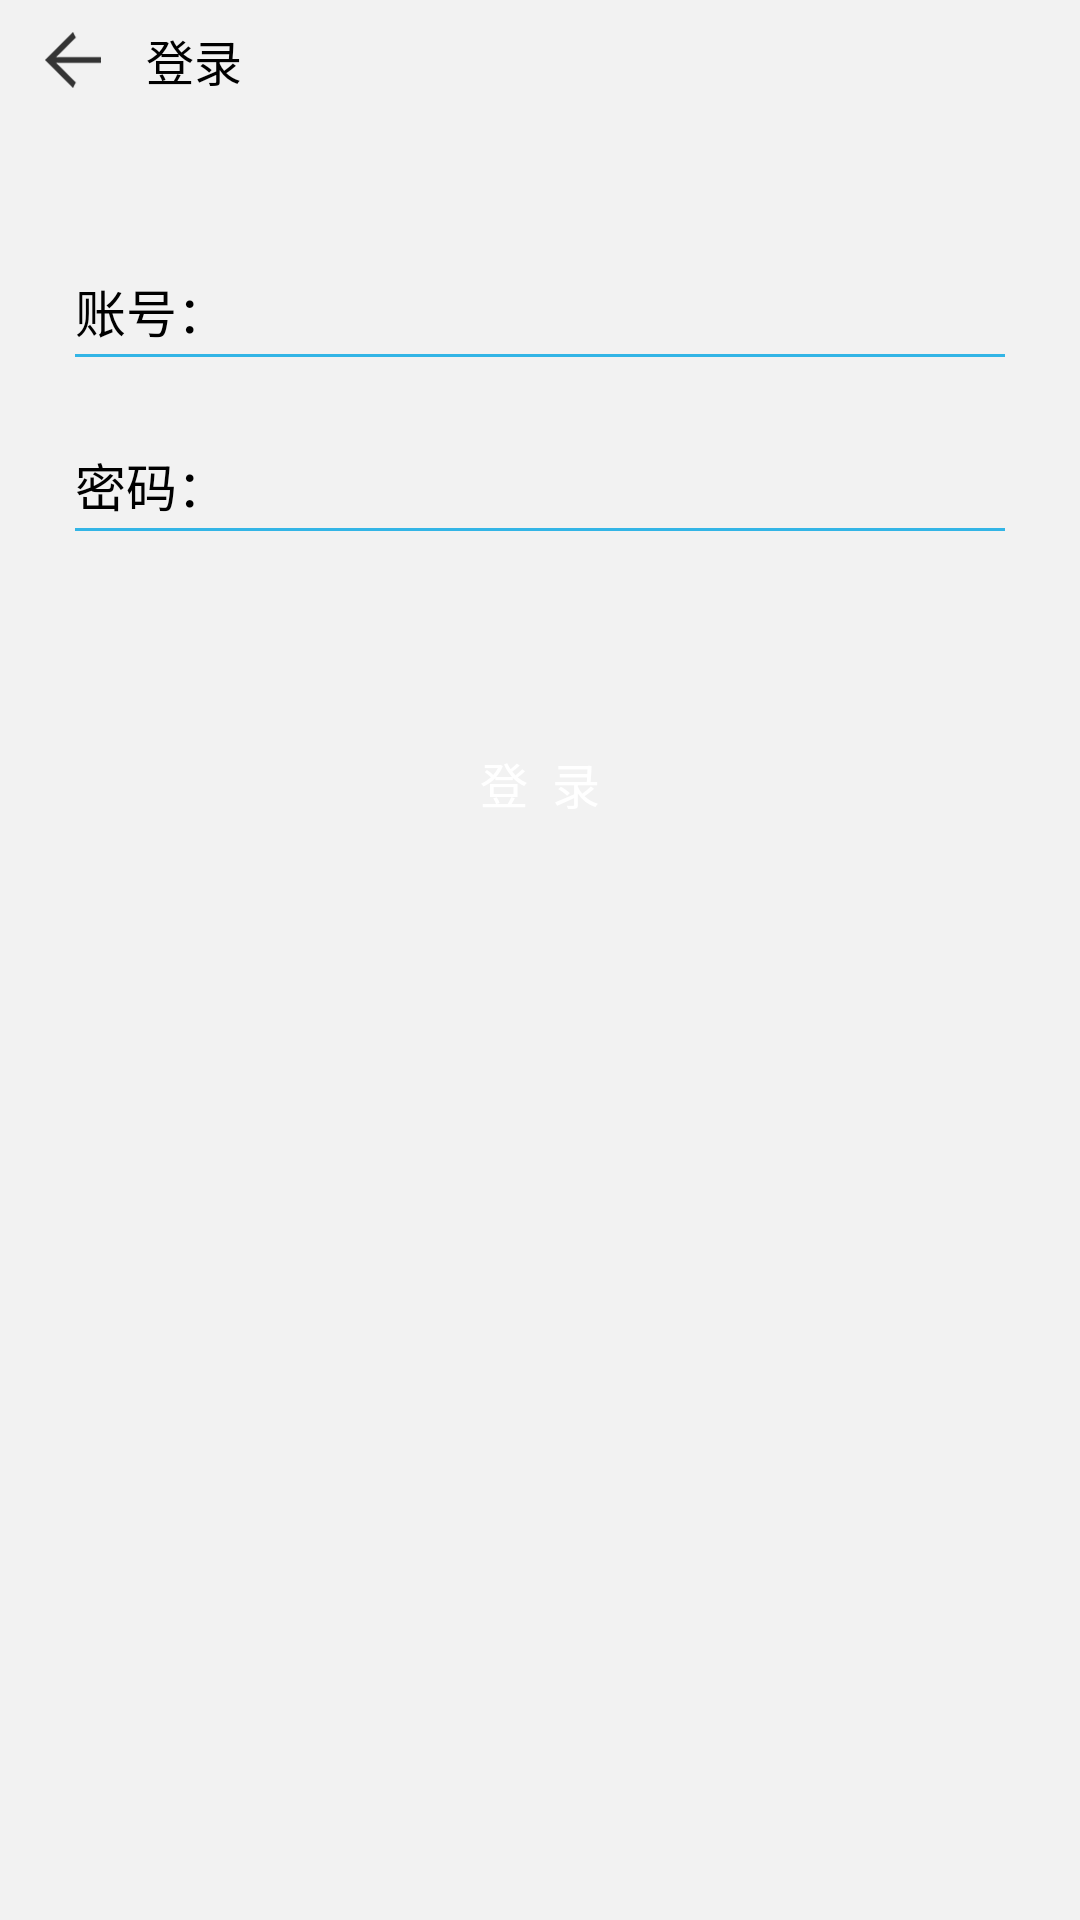

Locate icon controls on the screen. Image size 1080px x 1920px, boxes as box(x1, y1, x2, y2).
back: box(45, 32, 101, 88)
